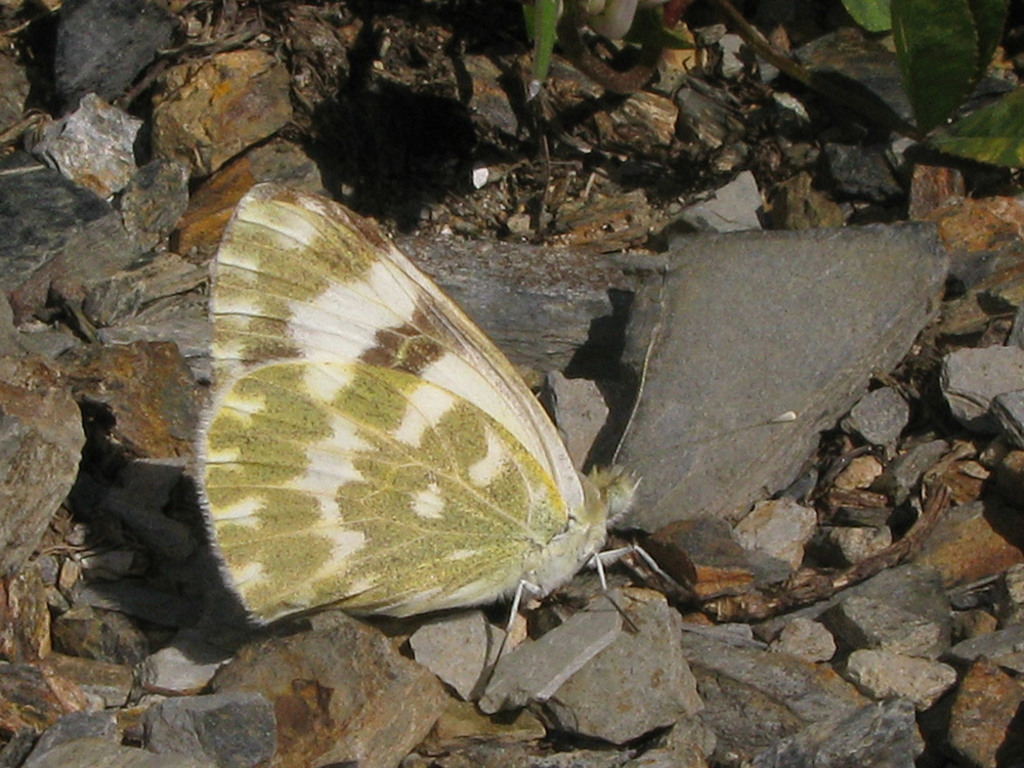Butterfly: (131, 126, 706, 661)
